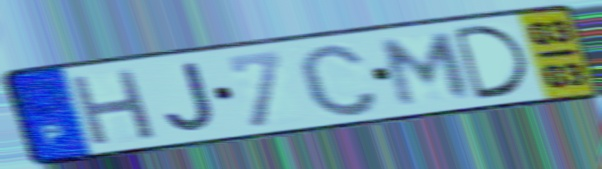7: (223, 47, 288, 129)
C: (293, 40, 383, 120)
D: (448, 22, 533, 103)
H: (66, 66, 161, 150)
J: (162, 59, 218, 135)
M: (379, 30, 475, 110)
